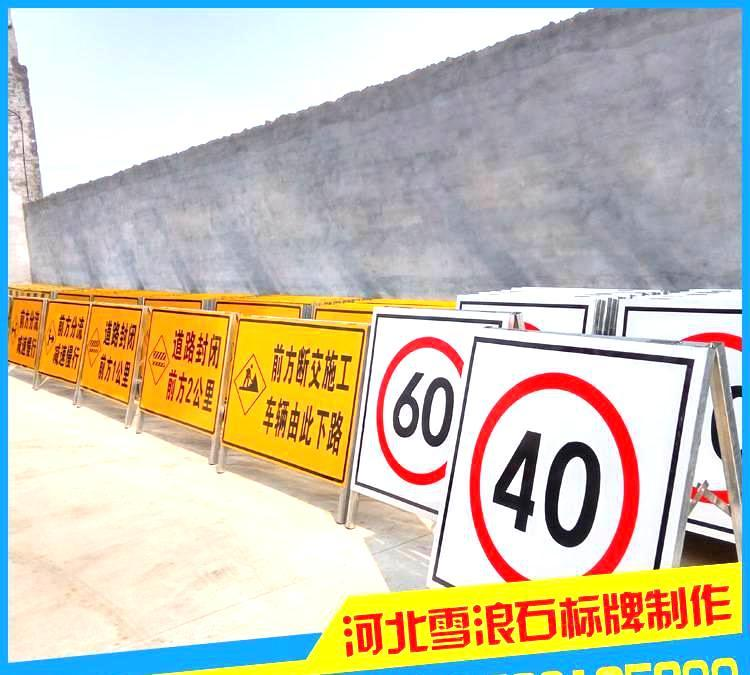sign: (237, 319, 356, 478), (1, 295, 136, 411), (144, 309, 222, 436)
